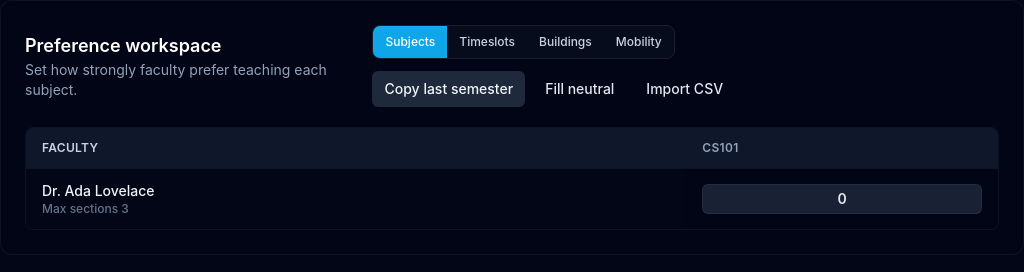
PreferenceMatrix interactions › resets preferences when confirmation is accepted
Right-click the button "0" at coordinates (842, 199), box [702,184,982,214]
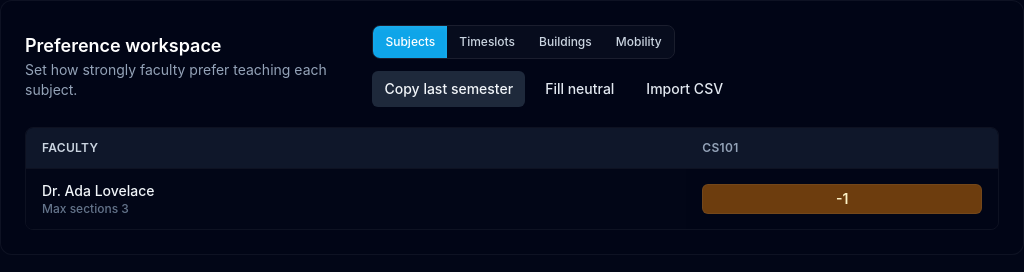
Result: the button named "0" reads "-1" at [702,184,982,214]
Click the button "Fill neutral" at coordinates (580, 89), box [533,71,626,107]
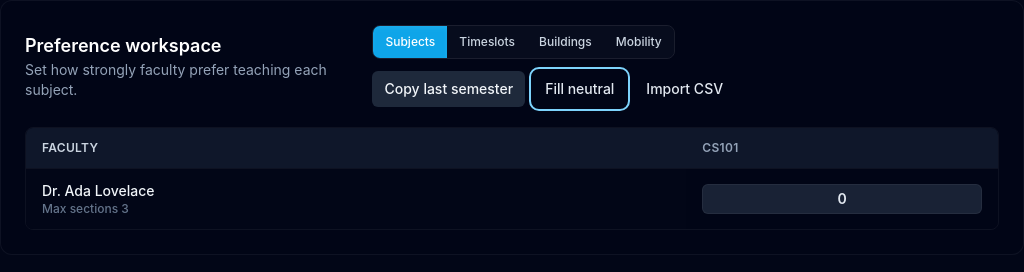
Result: the button "0" is shown at [702,184,982,214]
